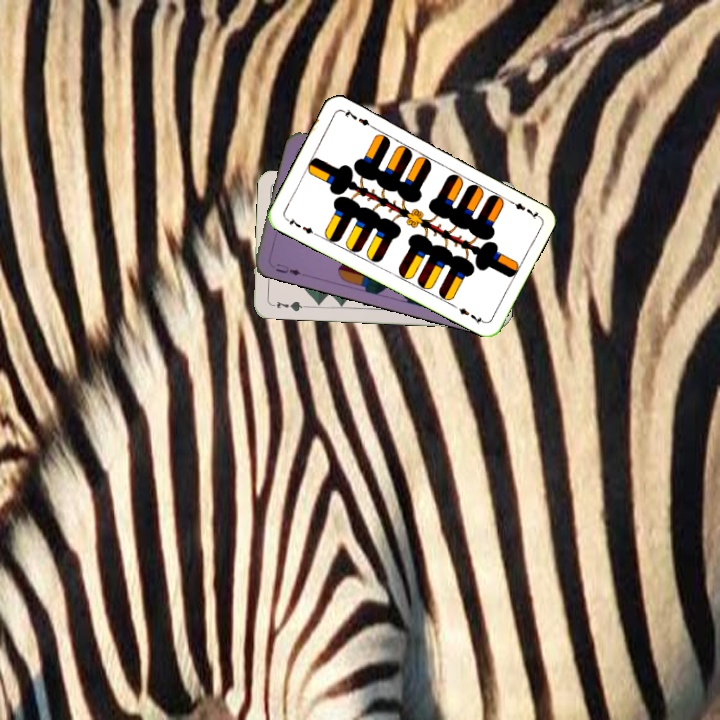E7: (504, 196, 541, 222), (282, 213, 320, 238)
EU: (272, 259, 303, 278)
G7: (267, 297, 307, 314)
